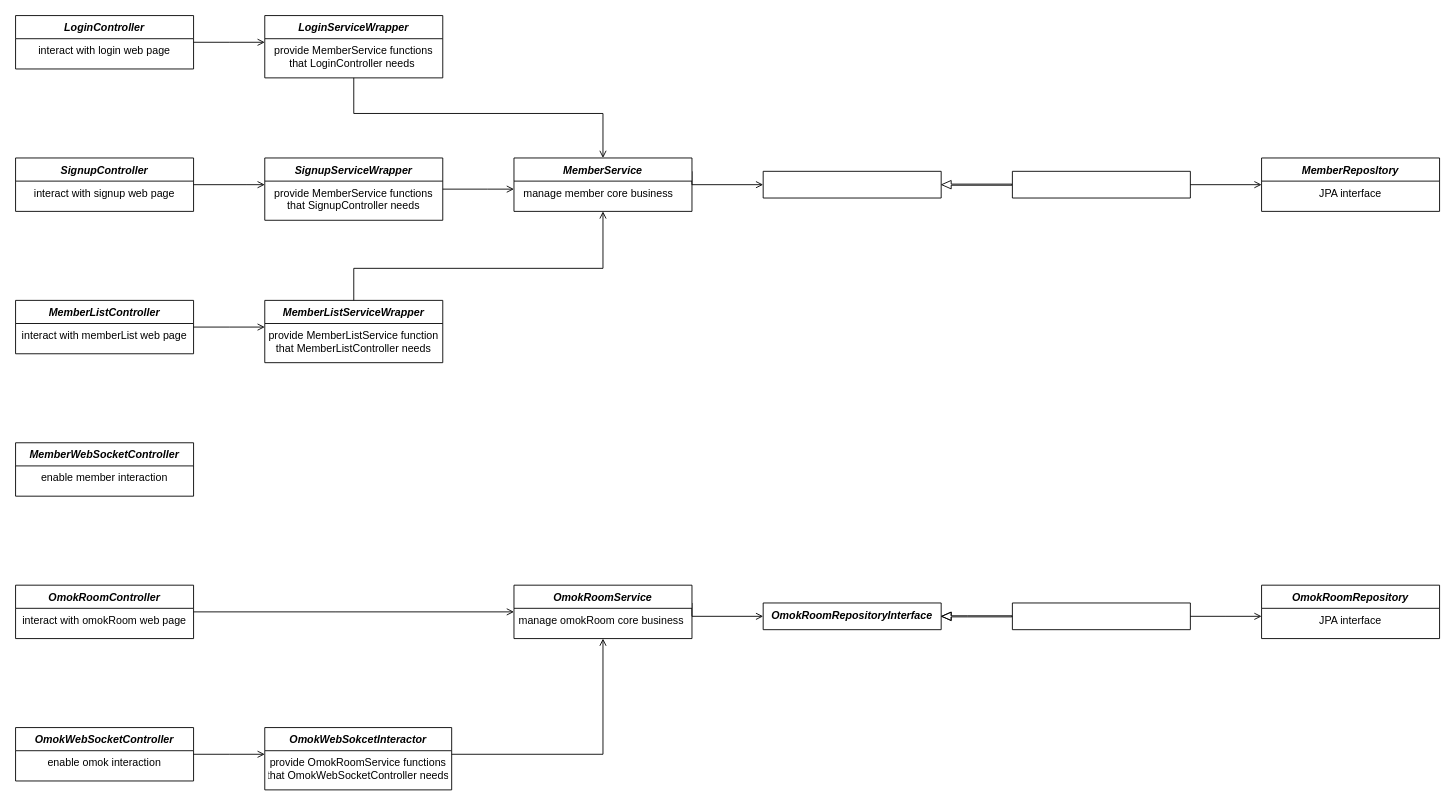
The diagram is 1455 pixels wide and 808 high, and some of its shapes have lost their labels. Each missing label, with the centre of its shape:
"MemberRepositoryInterface" goes at [851,184].
"MemberReposltoryWrapper" goes at [1100,184].
"OmokRoomRepositoryWrapper" goes at [1100,616].
